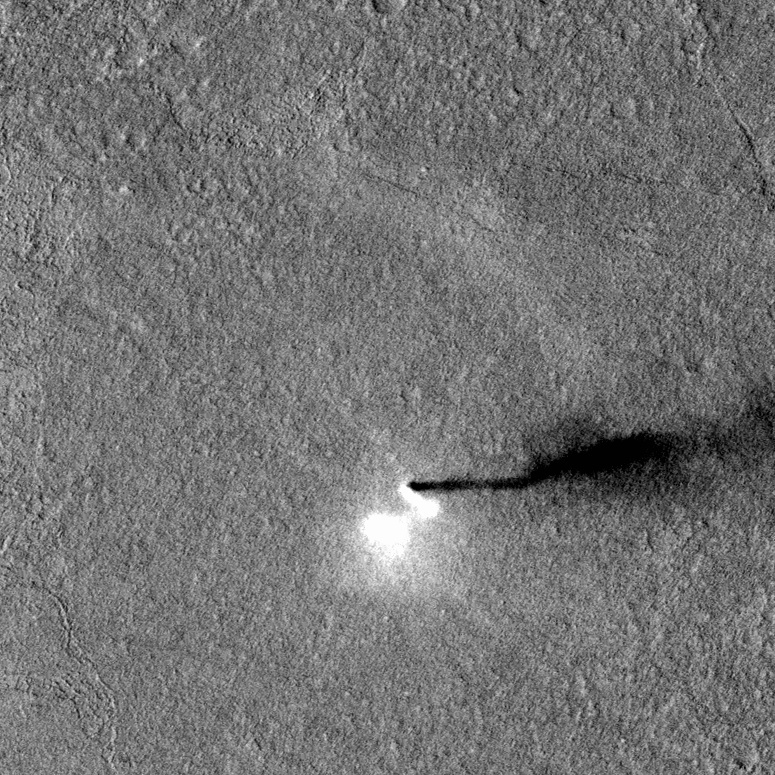dust_devil: (358, 388, 775, 570)
